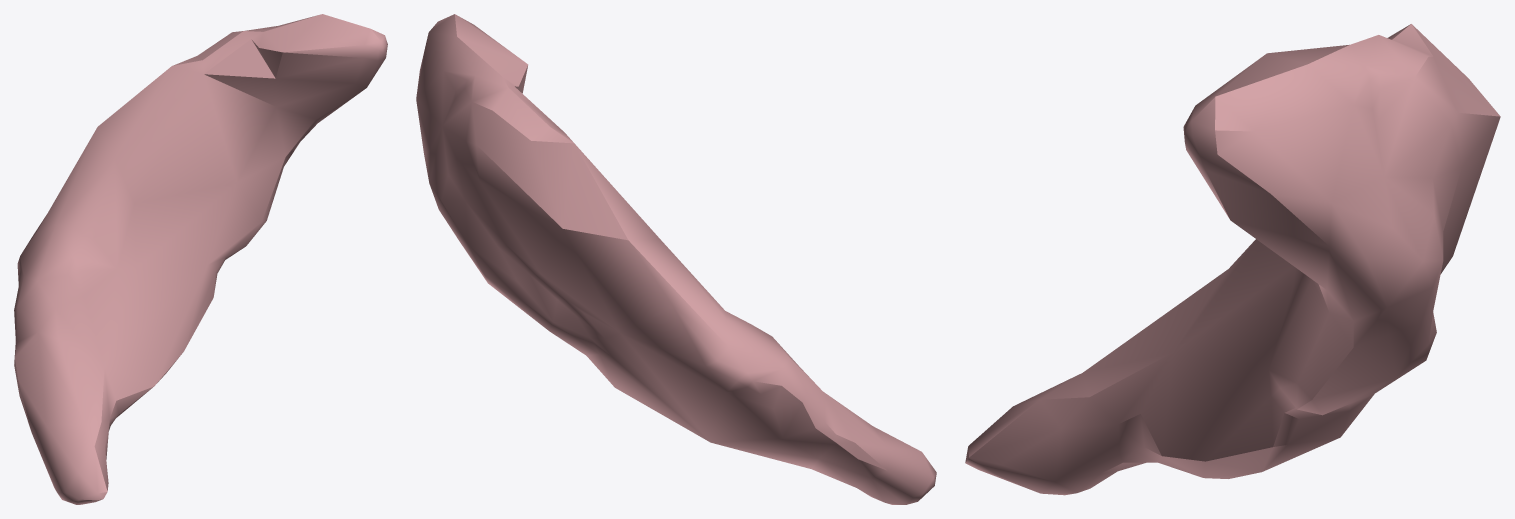
Rendered from fma19388_fj3137.glb.
The picture shows the model from 3 angles, left to right: view 1: azimuth 30°, elevation 25°; view 2: azimuth 150°, elevation 25°; view 3: azimuth 270°, elevation 25°; orthographic projection. The views are drawn at different scales.
Parts seen in each view (by area): view 1: FMA19388_FJ3137; view 2: FMA19388_FJ3137; view 3: FMA19388_FJ3137.
Boxes of the visible parts, left/top/right/bottom form: FMA19388_FJ3137: left=14, top=14, right=387, bottom=504; FMA19388_FJ3137: left=416, top=14, right=936, bottom=504; FMA19388_FJ3137: left=965, top=24, right=1500, bottom=495.
Bounding box in the file's own units: 0.0317 × 0.0295 × 0.0197.
